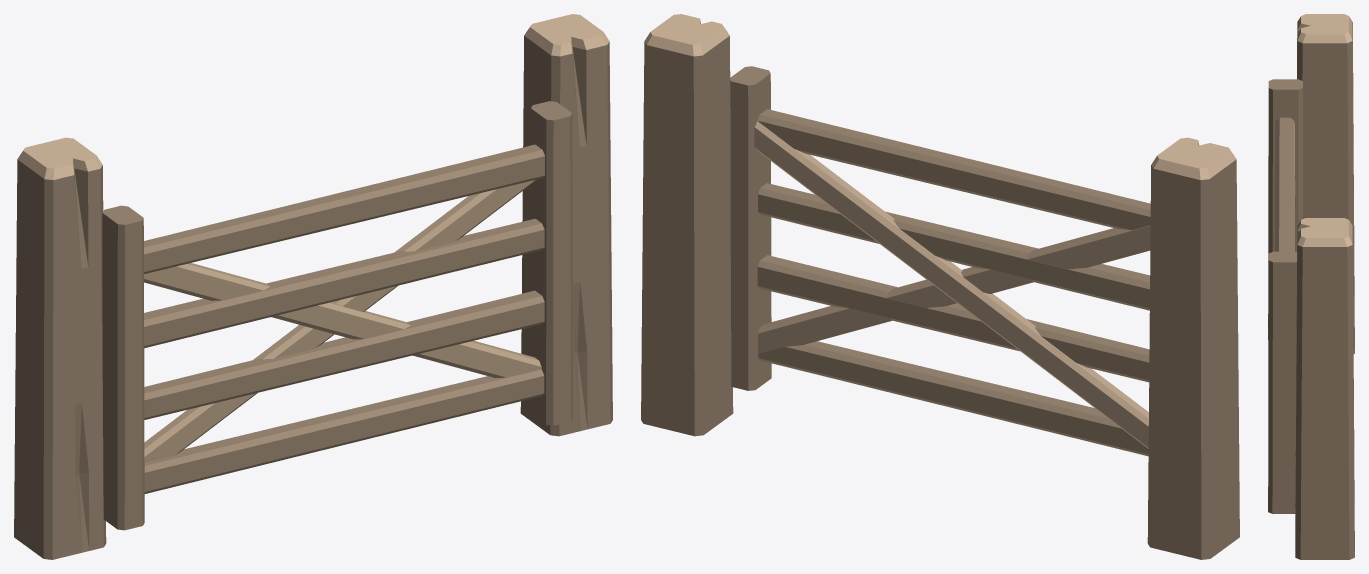
Rendered from wooden-fence-gate-a8735f.glb.
3 renders of one model, left to right at view 1: azimuth 30°, elevation 25°; view 2: azimuth 150°, elevation 25°; view 3: azimuth 270°, elevation 25°, orthographic. The views are drawn at different scales.
Parts seen in each view (by area): view 1: gate-leaf, posts; view 2: gate-leaf, posts; view 3: posts, gate-leaf.
Part boxes in pixels (left/top/right/bottom): gate-leaf: left=102, top=101, right=572, bottom=530; posts: left=14, top=14, right=612, bottom=559; gate-leaf: left=730, top=66, right=1150, bottom=456; posts: left=641, top=14, right=1239, bottom=559; posts: left=1295, top=14, right=1354, bottom=559; gate-leaf: left=1268, top=79, right=1302, bottom=513.
Size of the model in its own units: 2 by 1.3 by 0.32.
